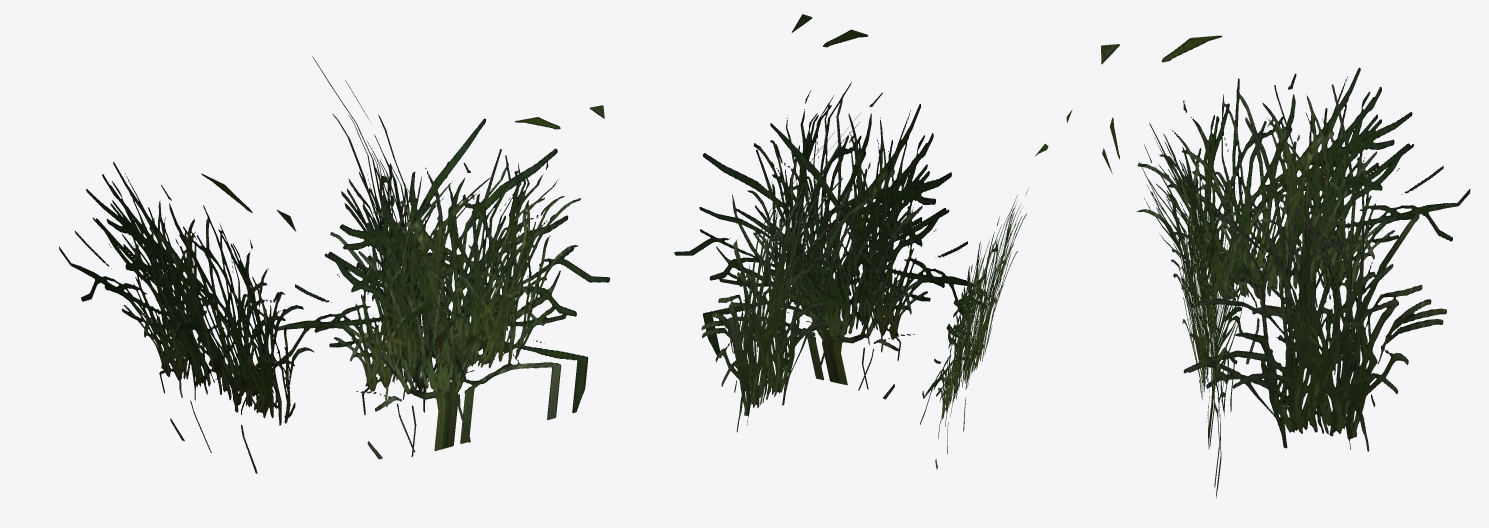
Rendered from forest_grass_001_c_LOD2.gltf.
The picture shows the model from 3 angles, left to right: view 1: azimuth 30°, elevation 25°; view 2: azimuth 150°, elevation 25°; view 3: azimuth 270°, elevation 25°; orthographic projection. The views are drawn at different scales.
Visible parts, largest first — view 1: forest_grass_001_c_LOD2; view 2: forest_grass_001_c_LOD2; view 3: forest_grass_001_c_LOD2.
Part boxes in pixels (bbox=[...]): forest_grass_001_c_LOD2: bbox=[59, 56, 609, 473]; forest_grass_001_c_LOD2: bbox=[674, 14, 1072, 469]; forest_grass_001_c_LOD2: bbox=[1101, 35, 1470, 498].
Size of the model in its own units: 0.9827 by 0.7079 by 0.7282.
1 material, 1 textured.
